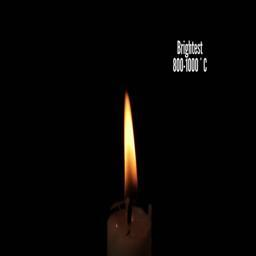fire: (122, 94, 137, 187)
